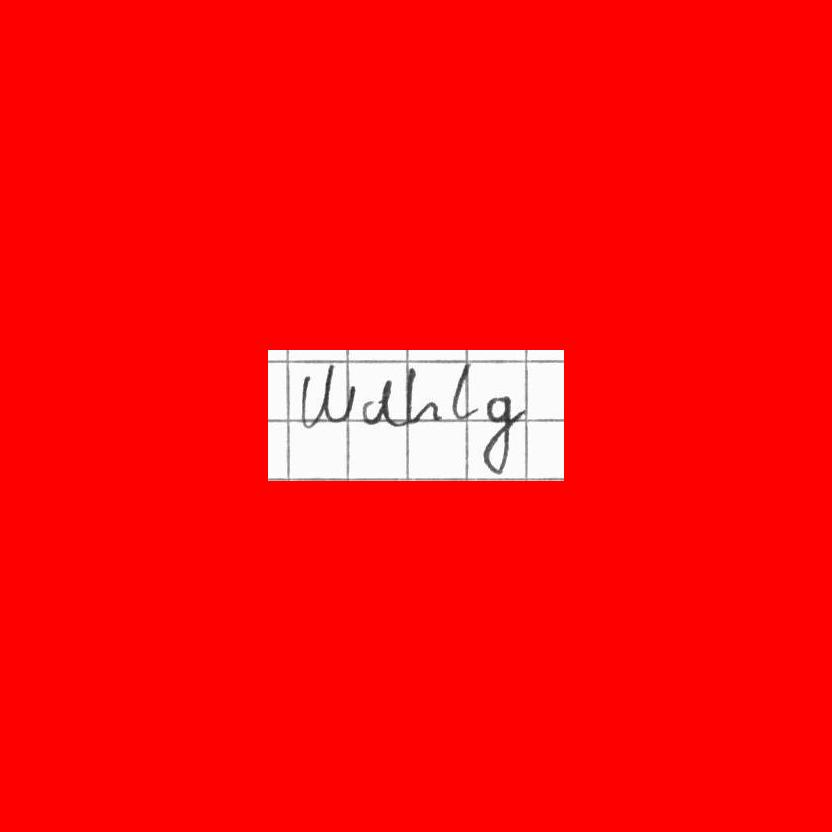Char: (295, 360, 362, 436), (480, 386, 528, 474), (405, 362, 442, 427), (358, 373, 400, 428), (448, 357, 478, 425)
